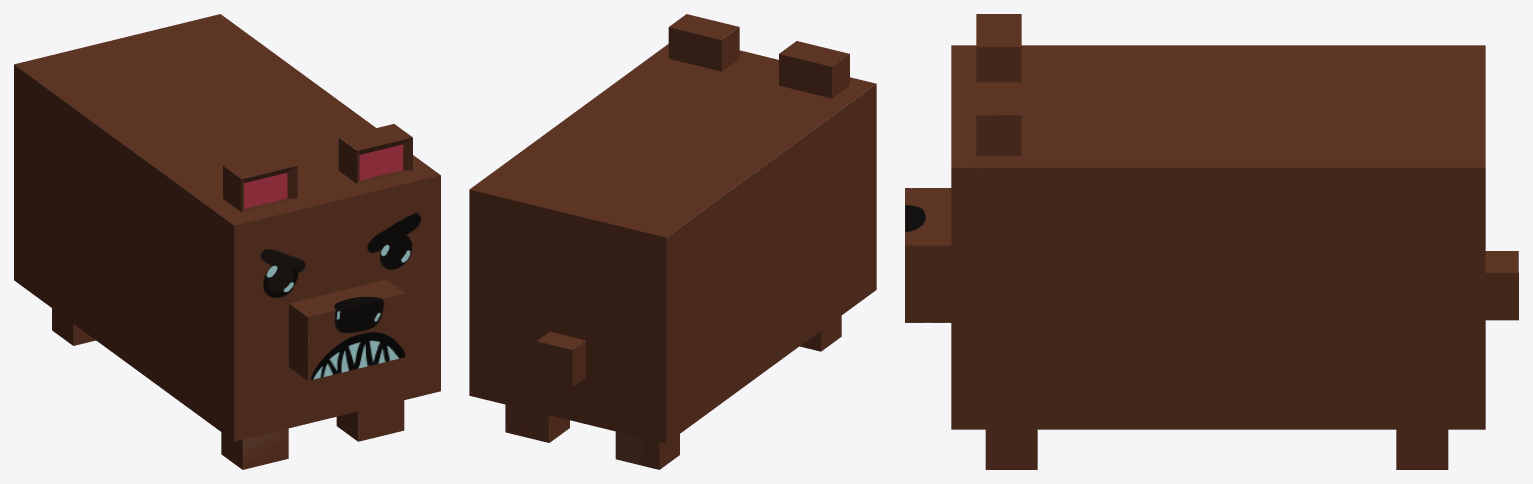
Rendered from bäääääär.glb.
The picture shows the model from 3 angles, left to right: view 1: azimuth 30°, elevation 25°; view 2: azimuth 150°, elevation 25°; view 3: azimuth 270°, elevation 25°; orthographic projection. The views are drawn at different scales.
Visible parts, largest first — view 1: Körper.001, Beine.002; view 2: Körper.001, Beine.002; view 3: Körper.001, Beine.002.
Boxes of the visible parts, <box> form: Körper.001: <box>14,14,440,441</box>; Beine.002: <box>52,308,404,469</box>; Körper.001: <box>469,14,876,443</box>; Beine.002: <box>505,316,841,469</box>; Körper.001: <box>905,14,1518,429</box>; Beine.002: <box>985,429,1448,469</box>.
Size of the model in its own units: 3.33 by 4.54 by 7.06.
Materials: 5 (5 with a texture image).
